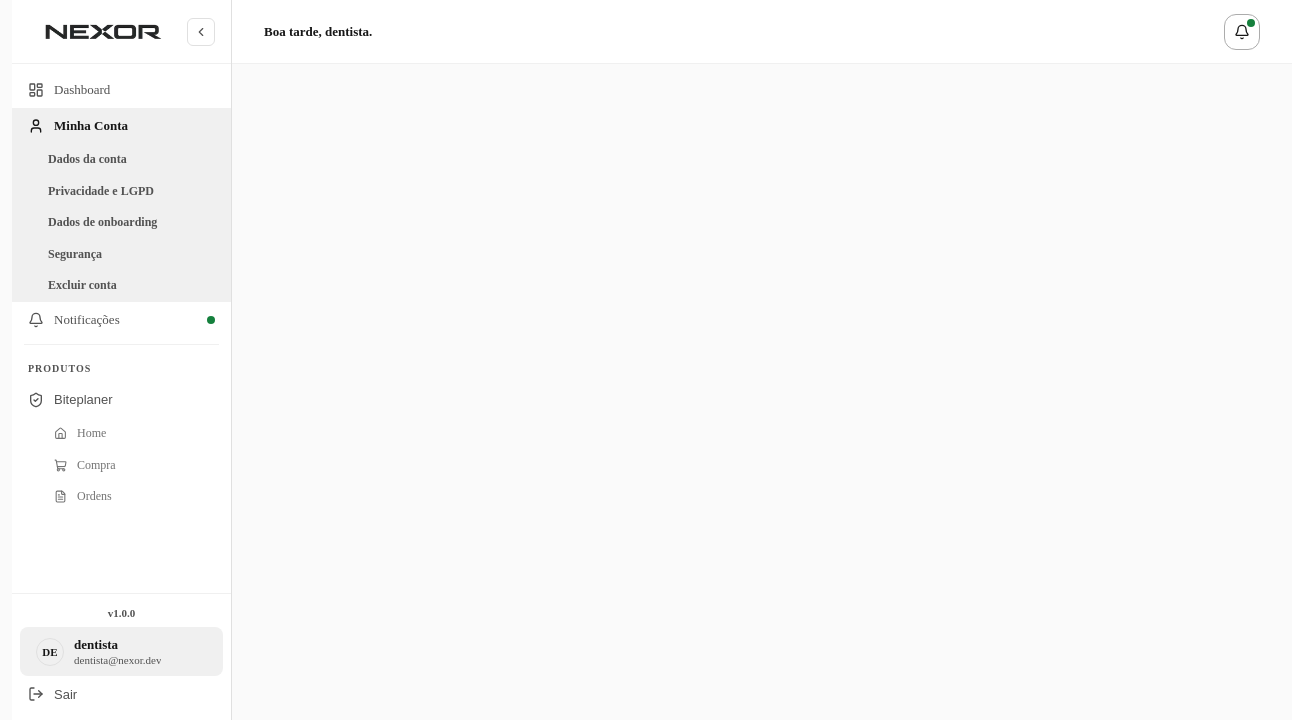
PortalLayout navigation › does not render submenus when the sidebar is collapsed
Check: the link "Dados da conta" is shown, box top-left (12, 144), bottom-right (231, 176)
Check: the link "Home" is shown, box top-left (54, 426), bottom-right (106, 440)
Click the button named "colapsar menu" at (201, 32), box top-left (187, 18), bottom-right (215, 46)
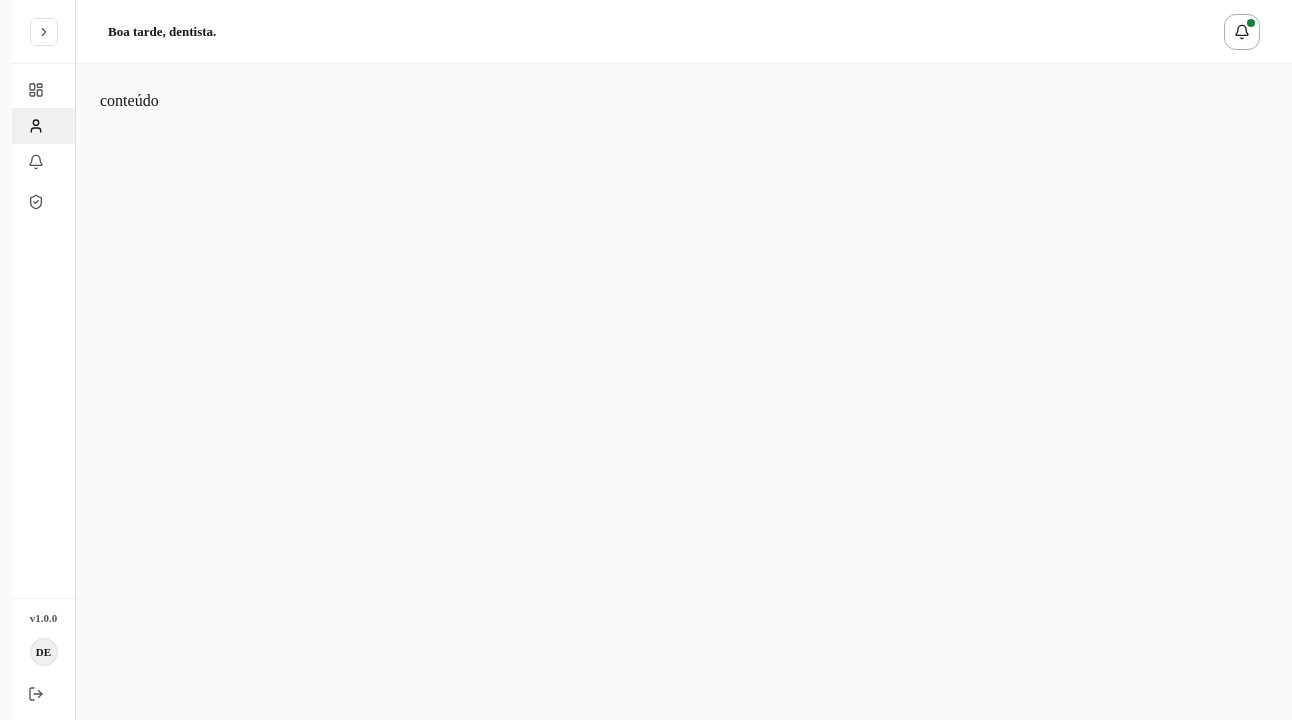
Check: the link "Dados da conta" is gone
Check: the link "Home" is gone
Check: the link "Ordens" is gone
